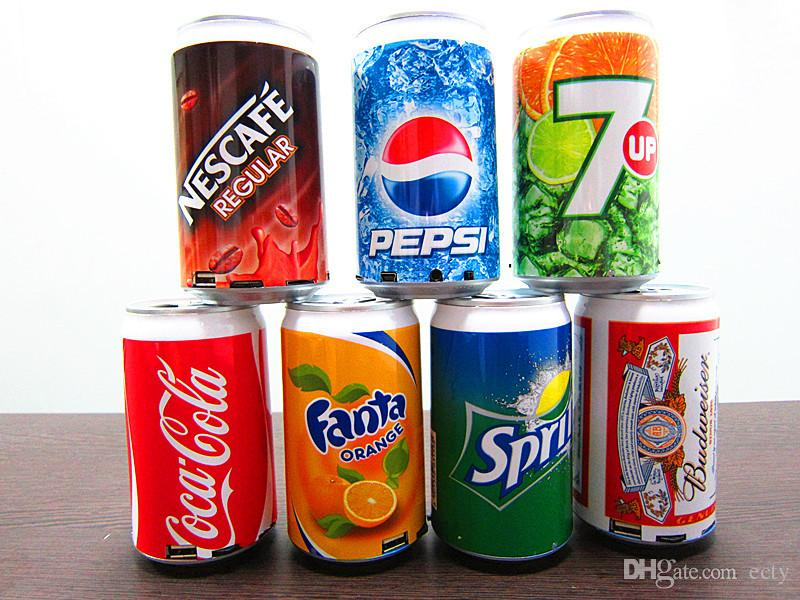fanta: (284, 302, 427, 556)
